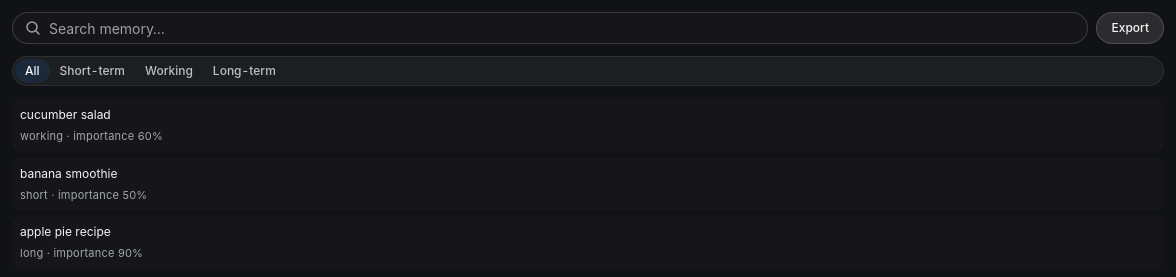
MemoryInspector › filters by kind
Click the tab with test id "memory-tab-long".
click(244, 71)  # box [203, 59, 286, 83]
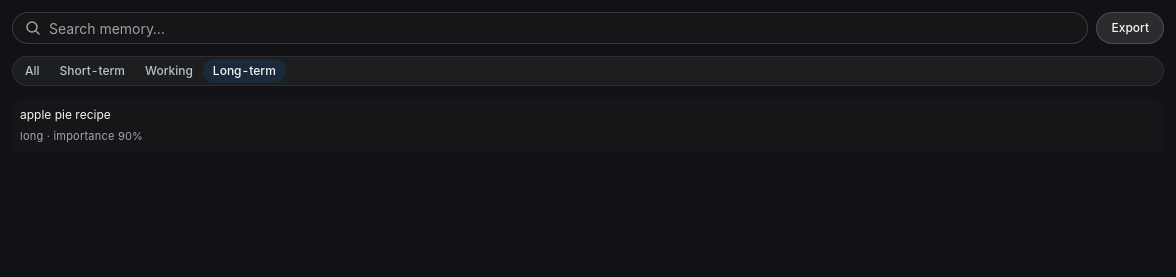
Check: the list item with test id "memory-item-a" is shown, box [12, 98, 1164, 152]
Check: the list item with test id "memory-item-b" is gone
